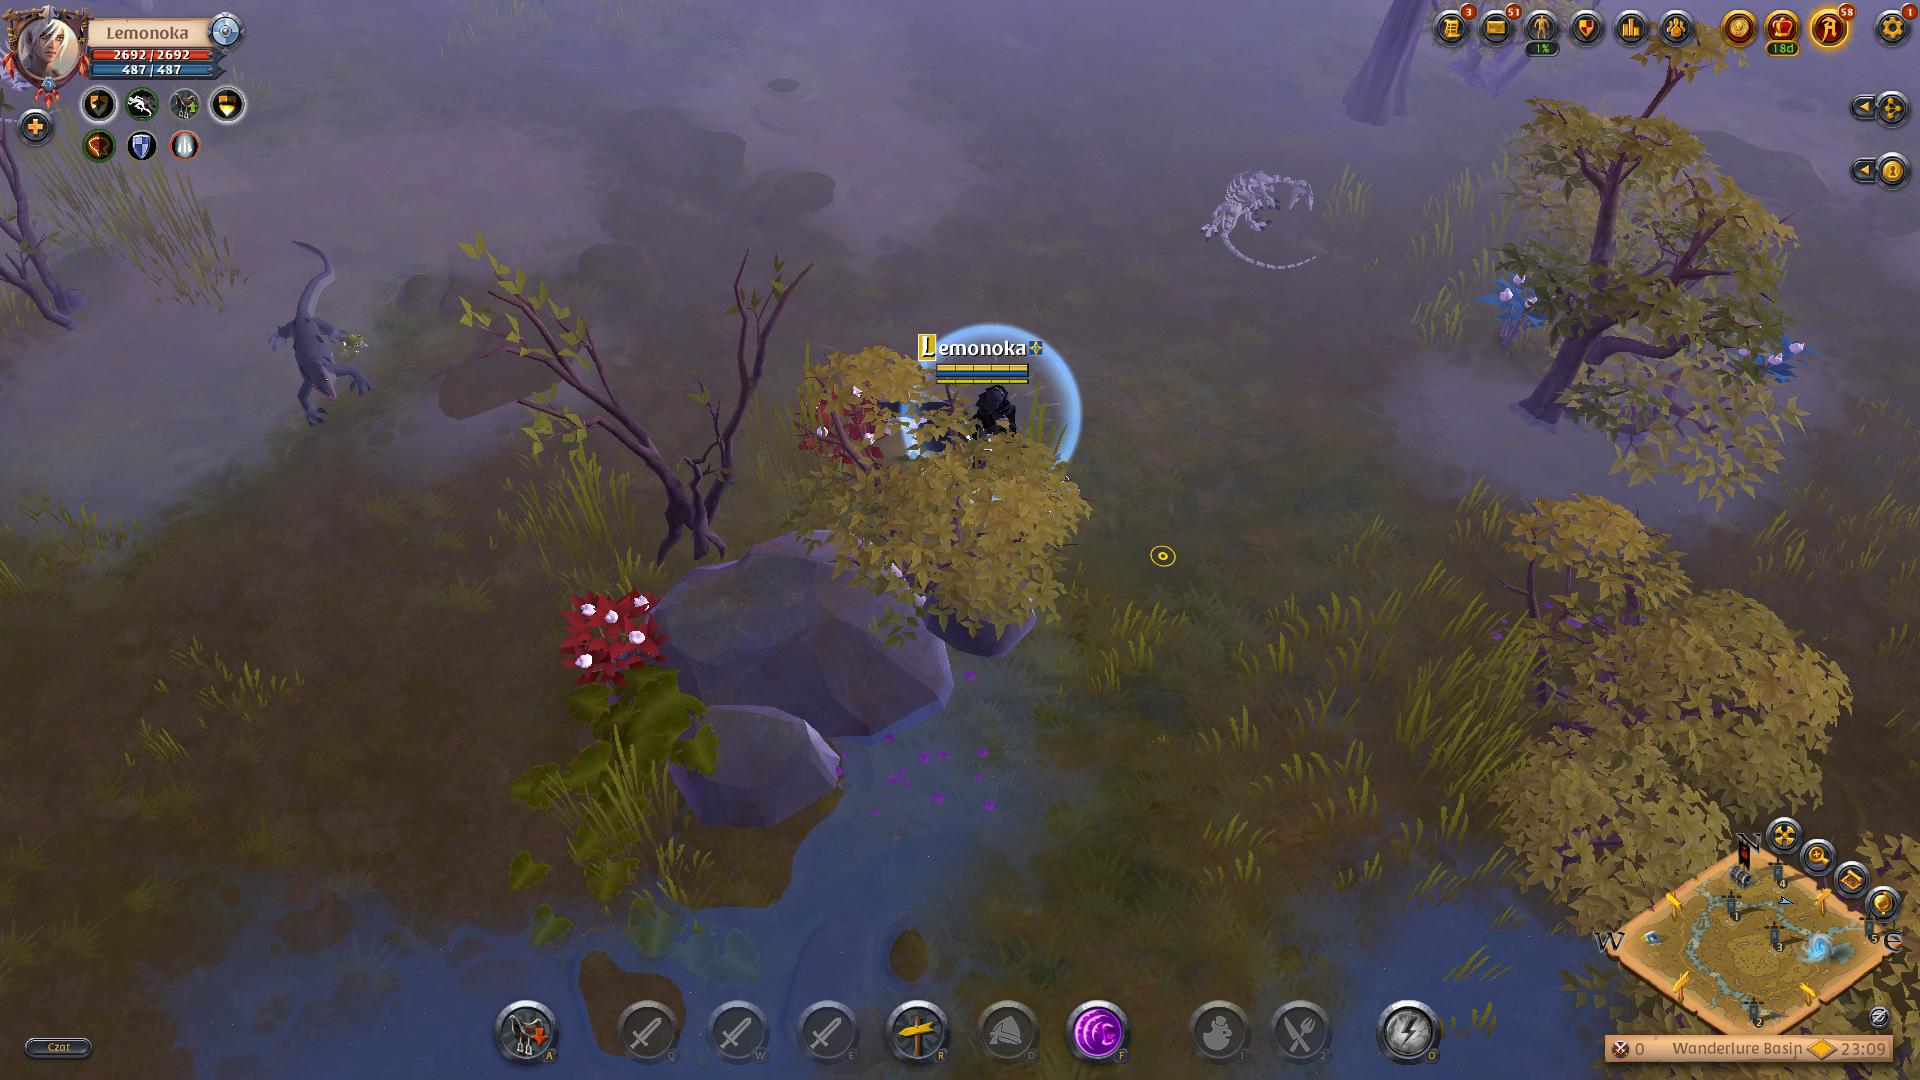fiber tier 5: (558, 583, 669, 687)
